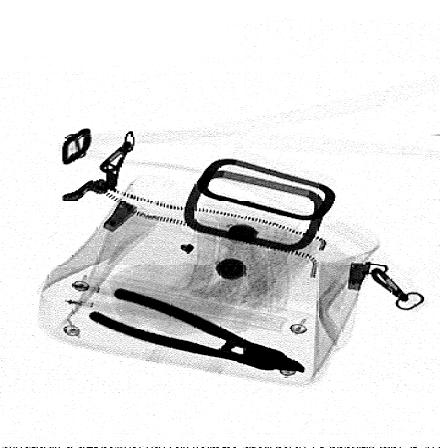Pliers: (88, 285, 306, 372)
